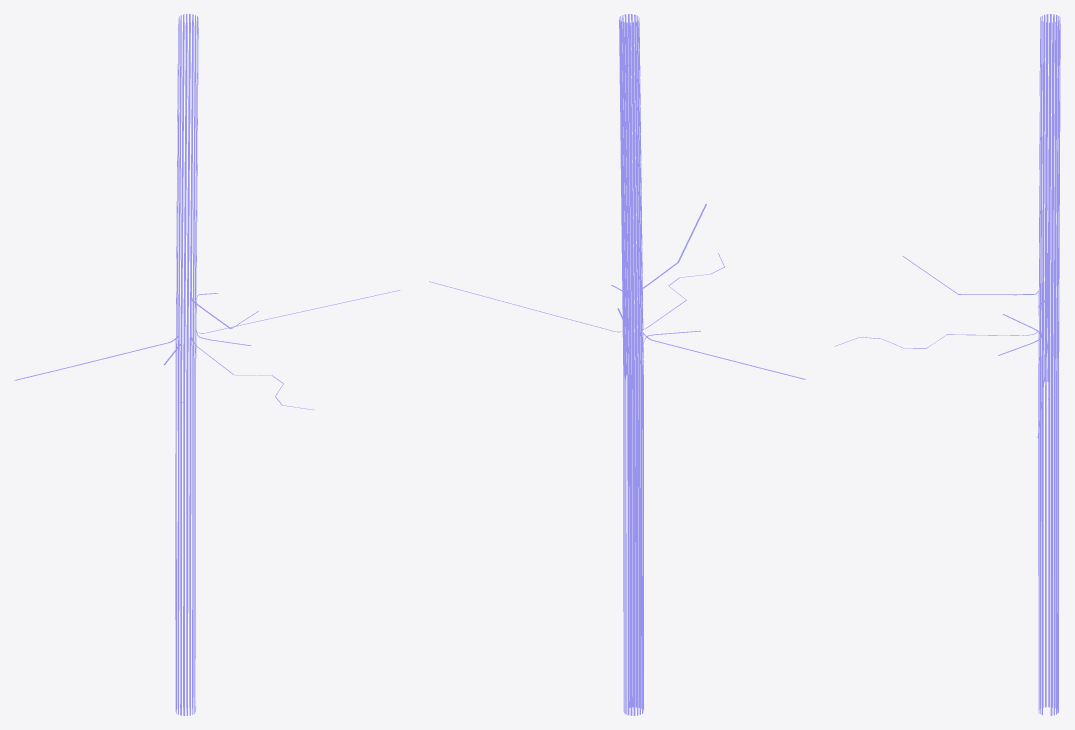
The picture shows the model from 3 angles, left to right: view 1: azimuth 30°, elevation 25°; view 2: azimuth 150°, elevation 25°; view 3: azimuth 270°, elevation 25°; orthographic projection.
Parts seen in each view (by area): view 1: lobby_new:polySurface472; view 2: lobby_new:polySurface472; view 3: lobby_new:polySurface472.
Boxes of the visible parts, x1,y1,x2,y2 form: lobby_new:polySurface472: [14, 14, 400, 715]; lobby_new:polySurface472: [429, 14, 805, 715]; lobby_new:polySurface472: [834, 14, 1060, 715].
Size of the model in its own units: 20674 by 35924 by 10602.
